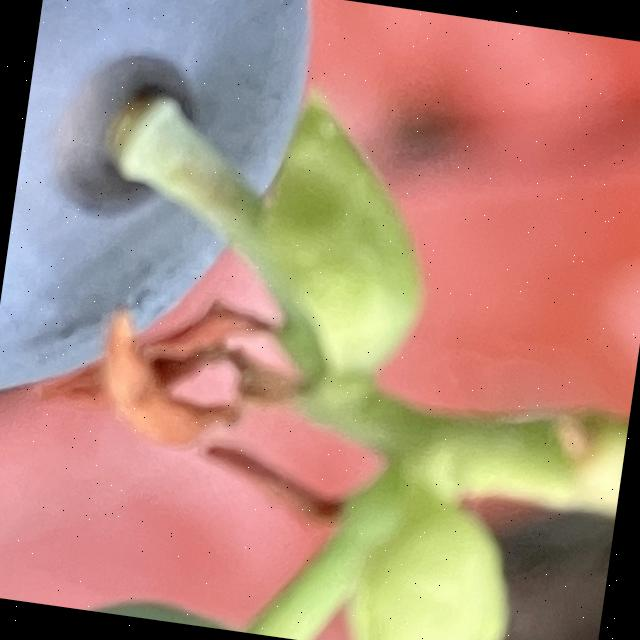Blueberries: (0, 0, 338, 477)
